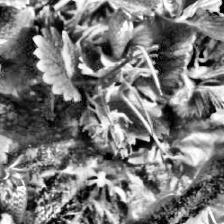Gray Mold: (82, 107, 134, 162)
